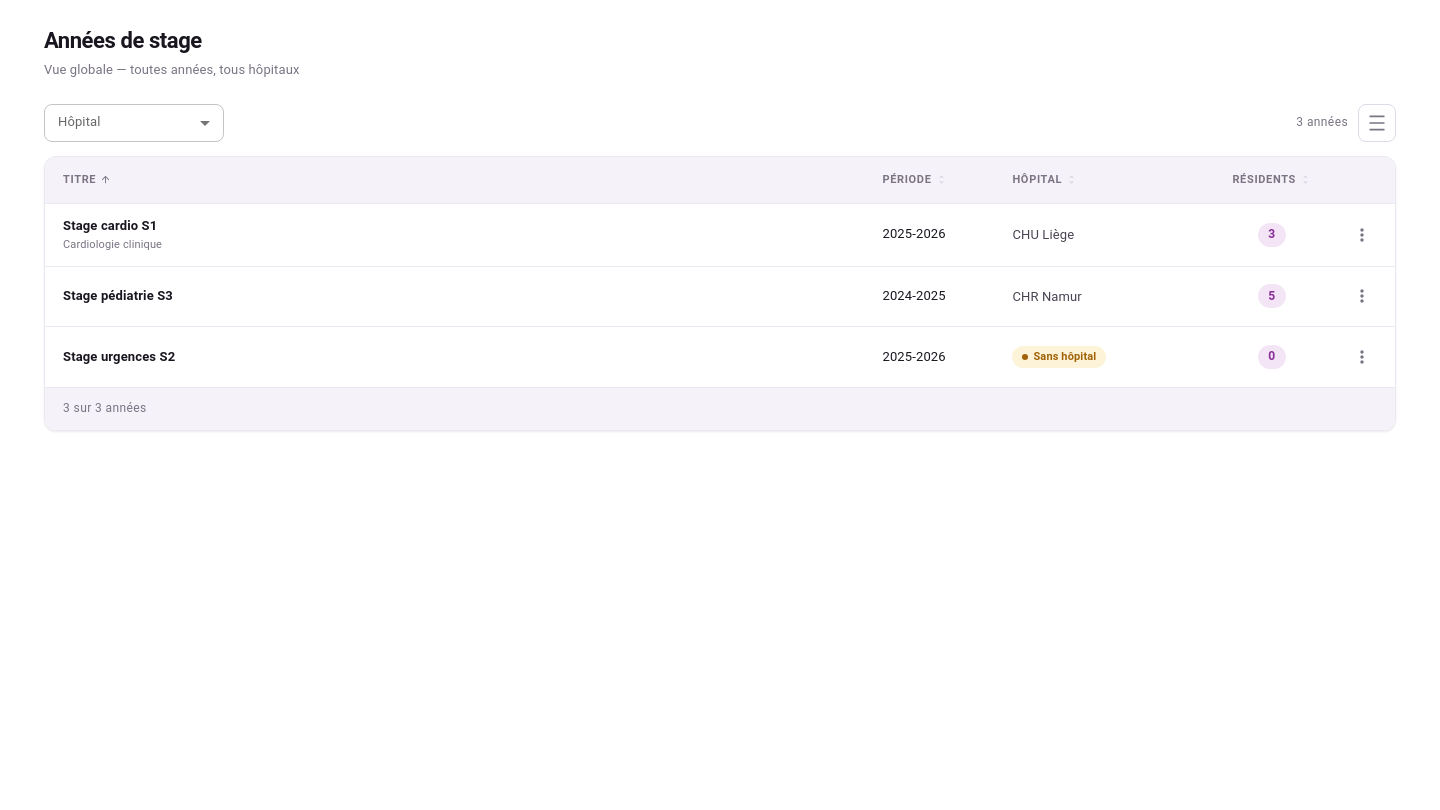
Test: AdminYearsPage › ouvre le drawer au clic sur une ligne
Step 1. Click the text "Stage cardio S1" → coordinates (110, 225), box x1=63 y1=218 x2=157 y2=232
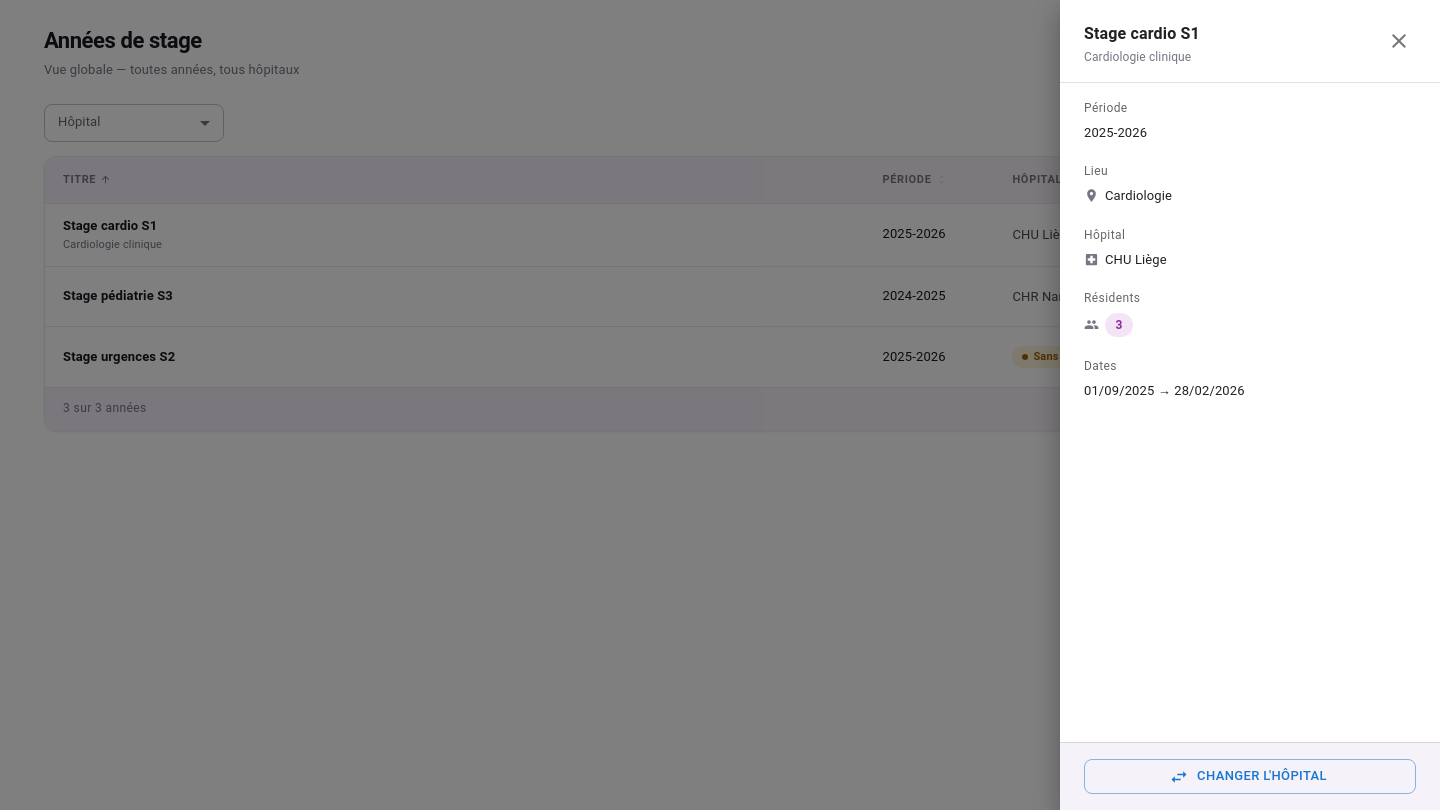
Now the element that starts with "Stage cardio S1" is shown
